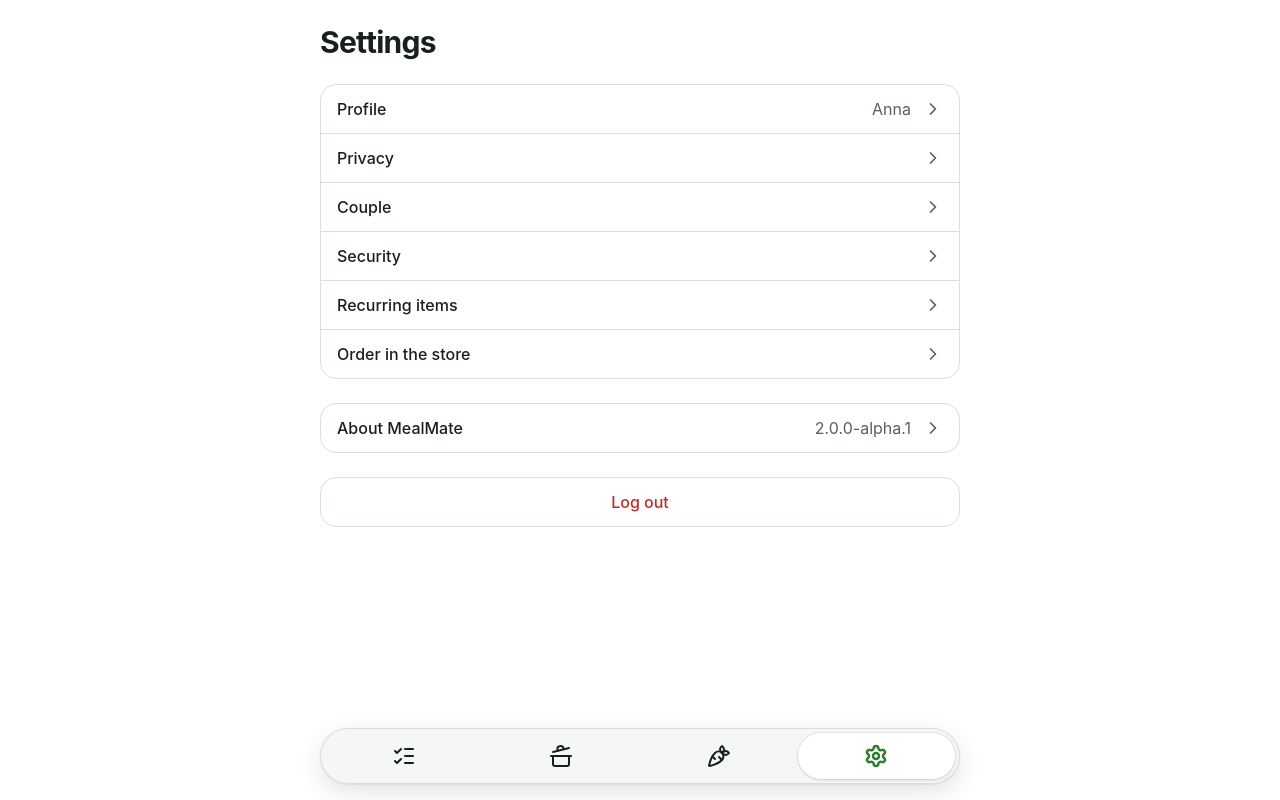
Test: logging out with waiting changes (SYNC-05, SYNC-10) › asks first; Cancel keeps everything
Right after the start: the outbox is read before deciding.
Click the button with test id "logout-button". click: (640, 502)
box: [321,478,959,526]
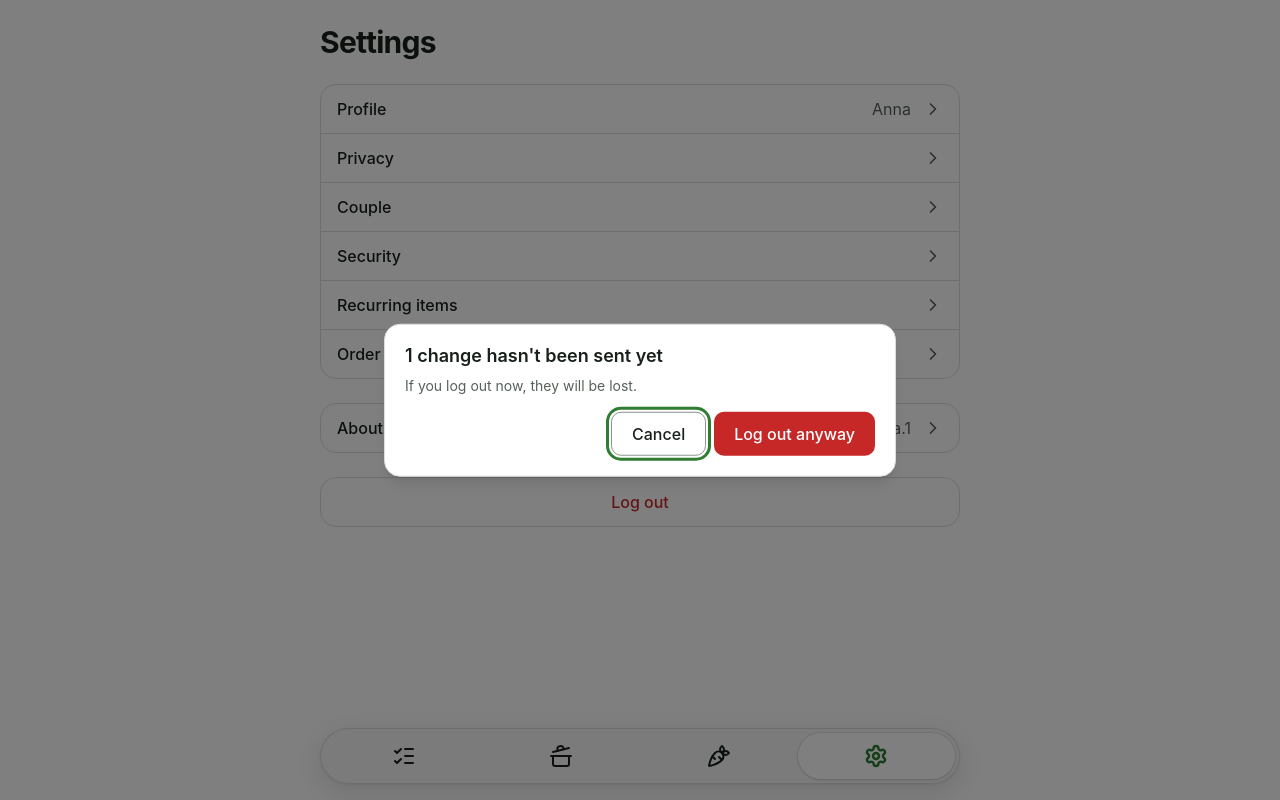
Check: the dialog "1 change hasn't been sent yet" shows "If you log out now, they will be lost.", box [405,376,637,393]
Click the button "Cancel". click: (659, 433)
box: [611,411,706,455]
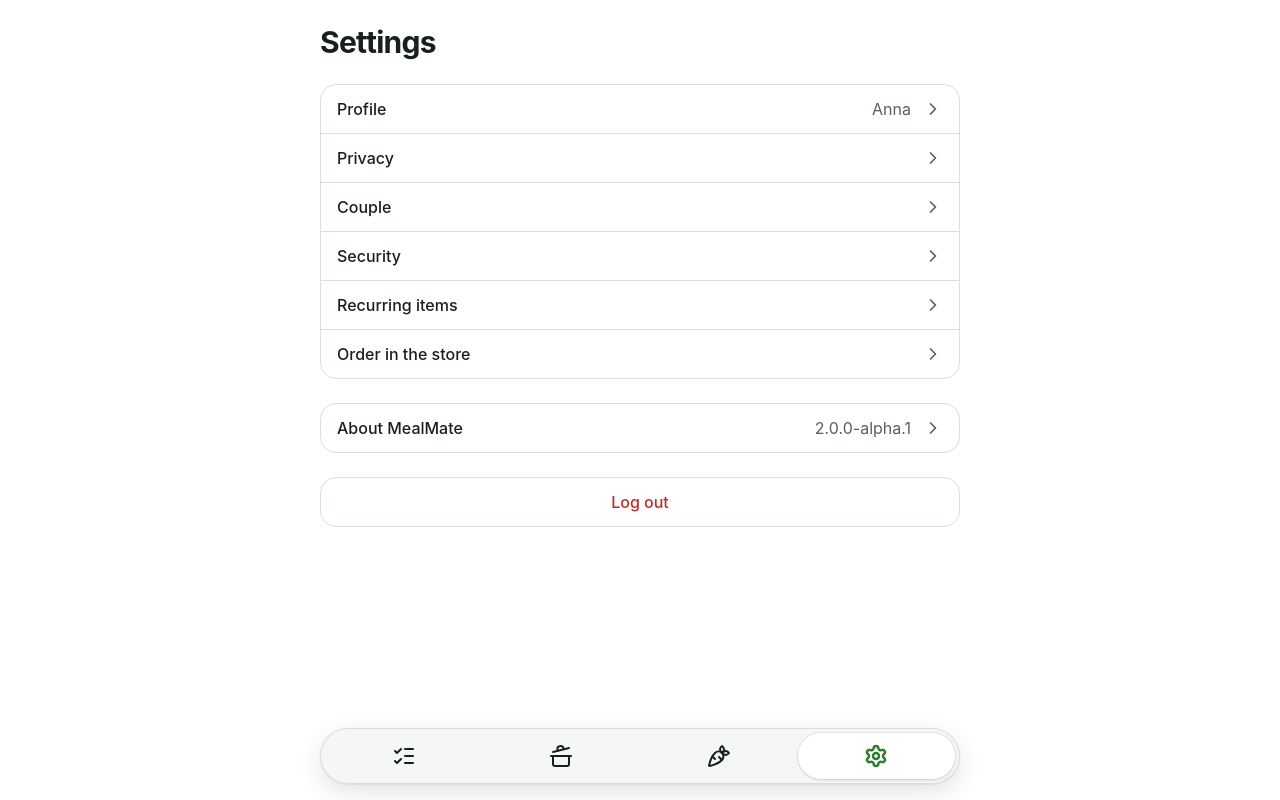
Check: the dialog is gone
